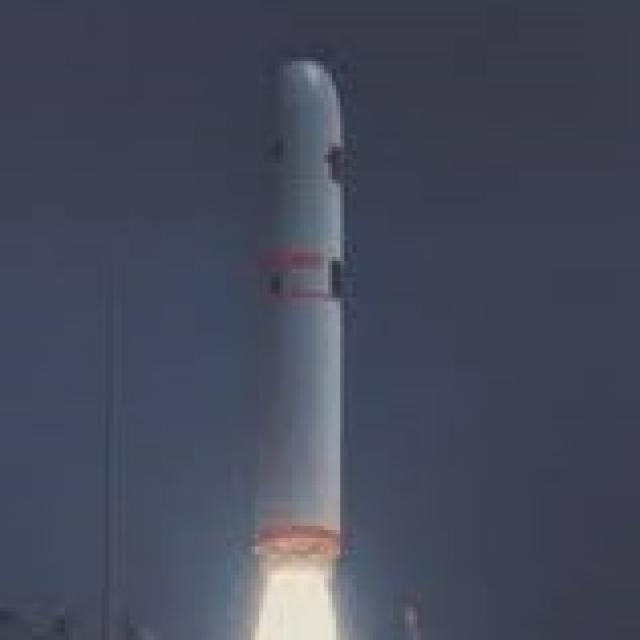missile: (238, 53, 352, 603)
